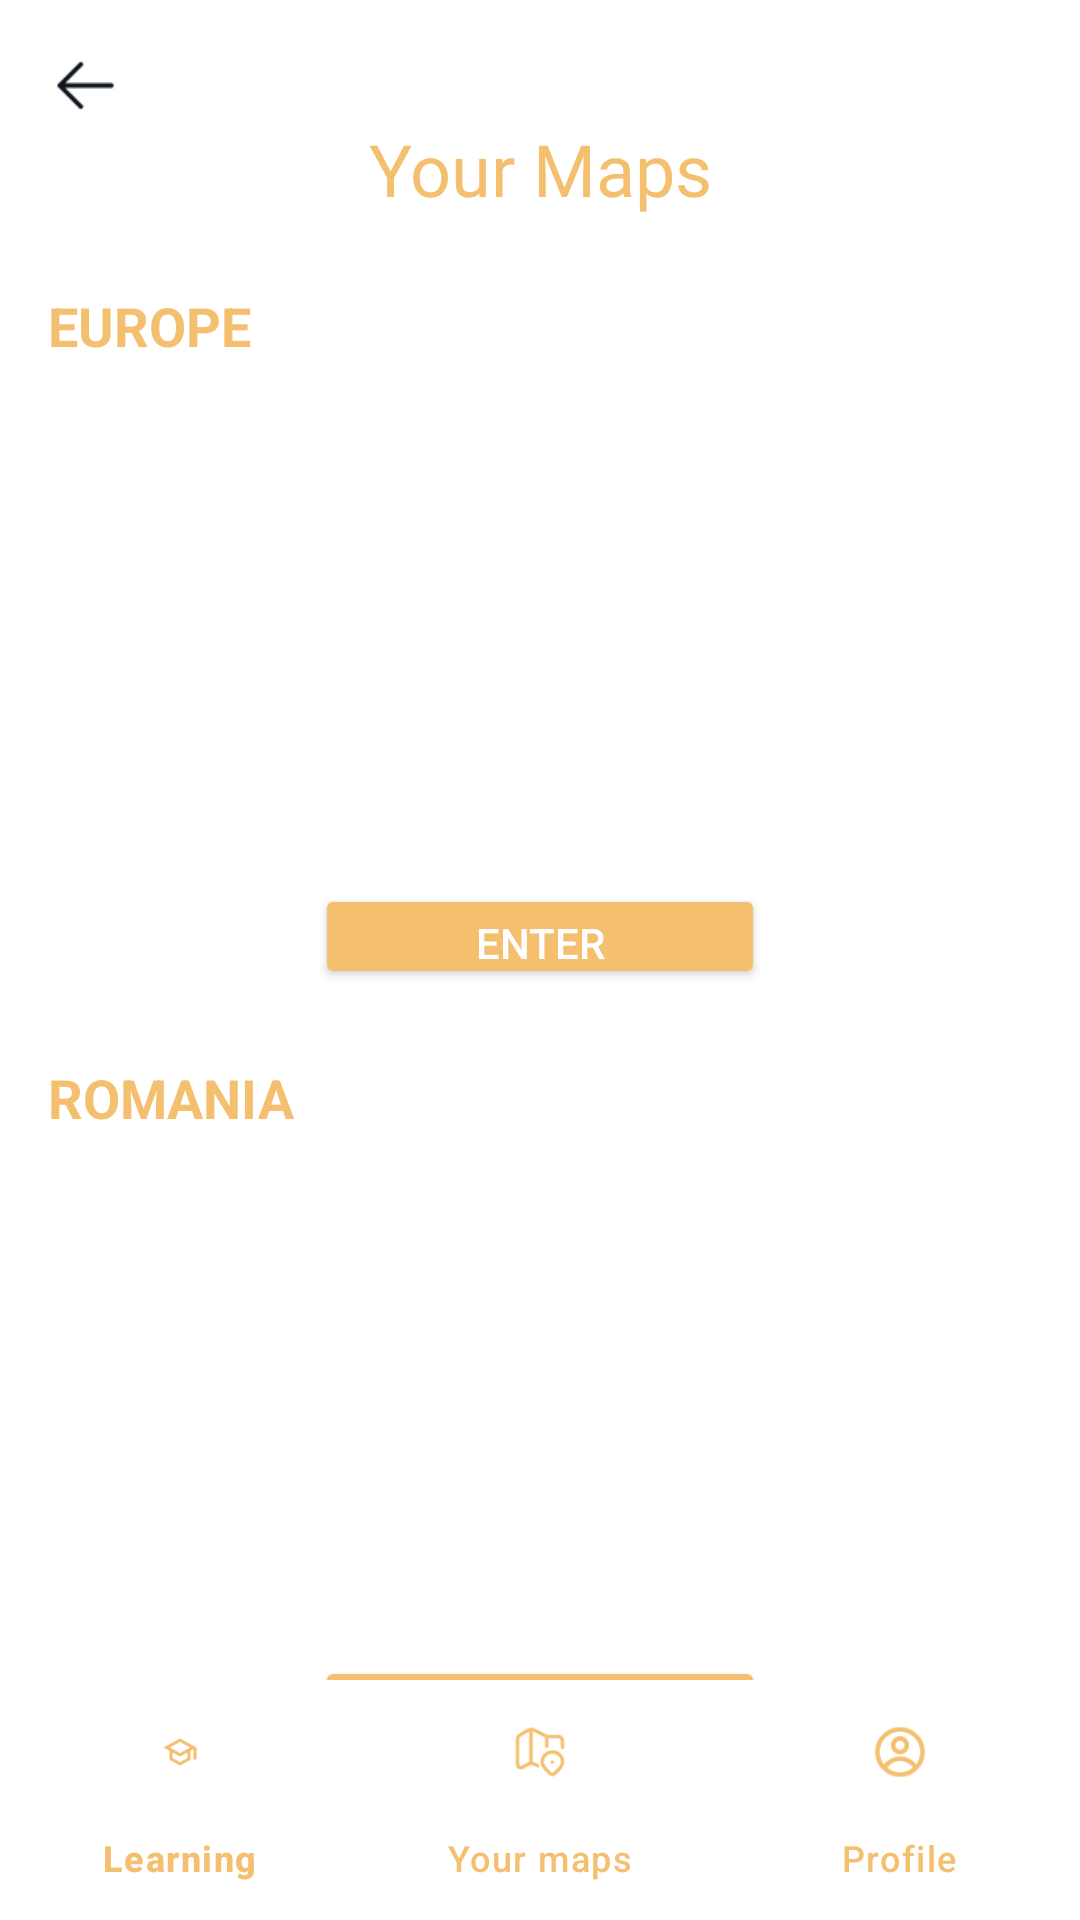

Where icons sit on this 1080x1920 app screen, as {"left": x1, "top": y1, "right": x2, "bottom": y2}:
Back: {"left": 57, "top": 61, "right": 114, "bottom": 110}
